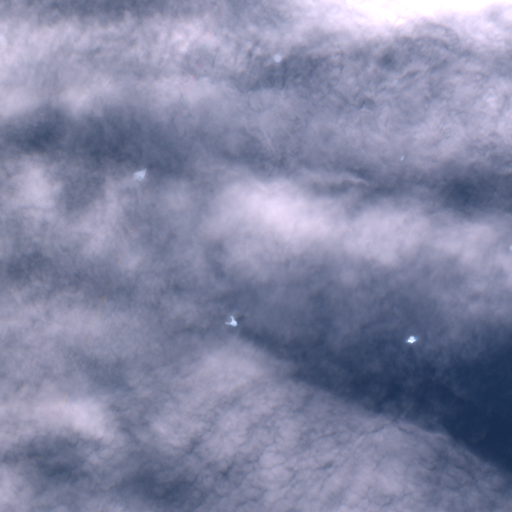Iceberg: (134, 169, 145, 180), (226, 317, 236, 325), (274, 55, 281, 61), (407, 337, 415, 342), (401, 157, 403, 159)
